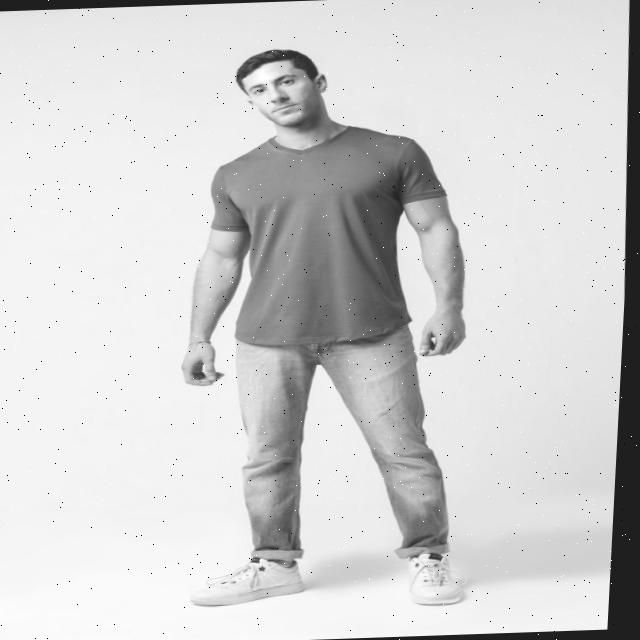Upper-Body: (212, 125, 447, 344)
